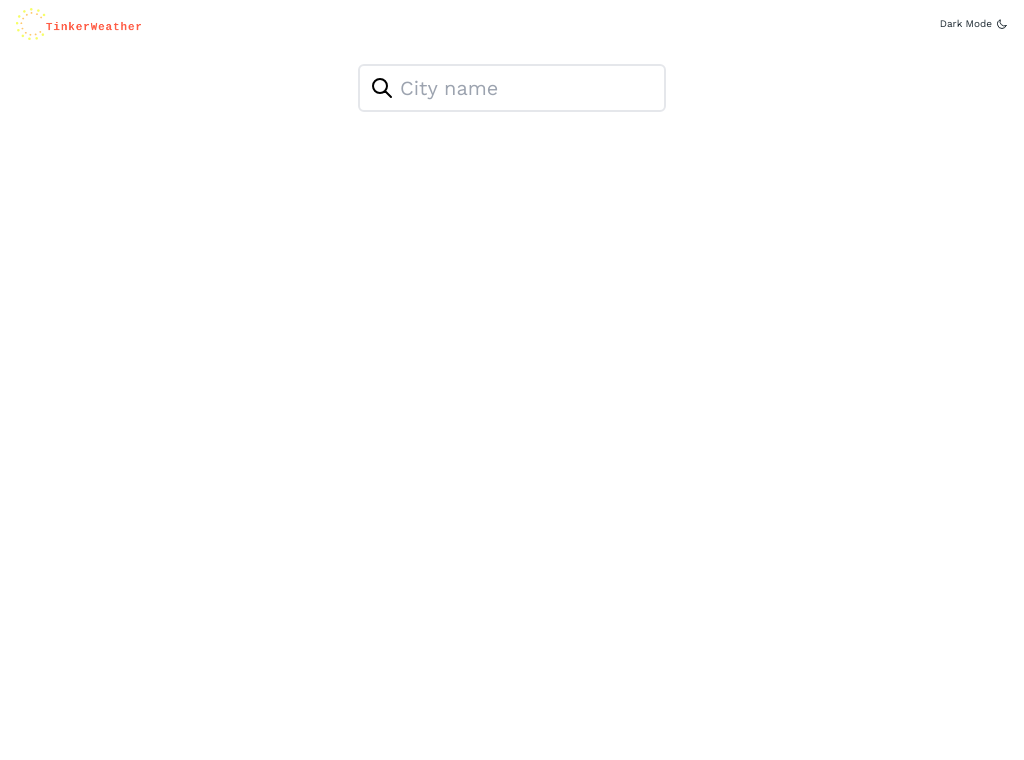
TinkerWeather e2e › requests weather data by city name
Step 1. Type "London" into the element with test id "search-input" → (512, 88), box x1=358 y1=64 x2=666 y2=112
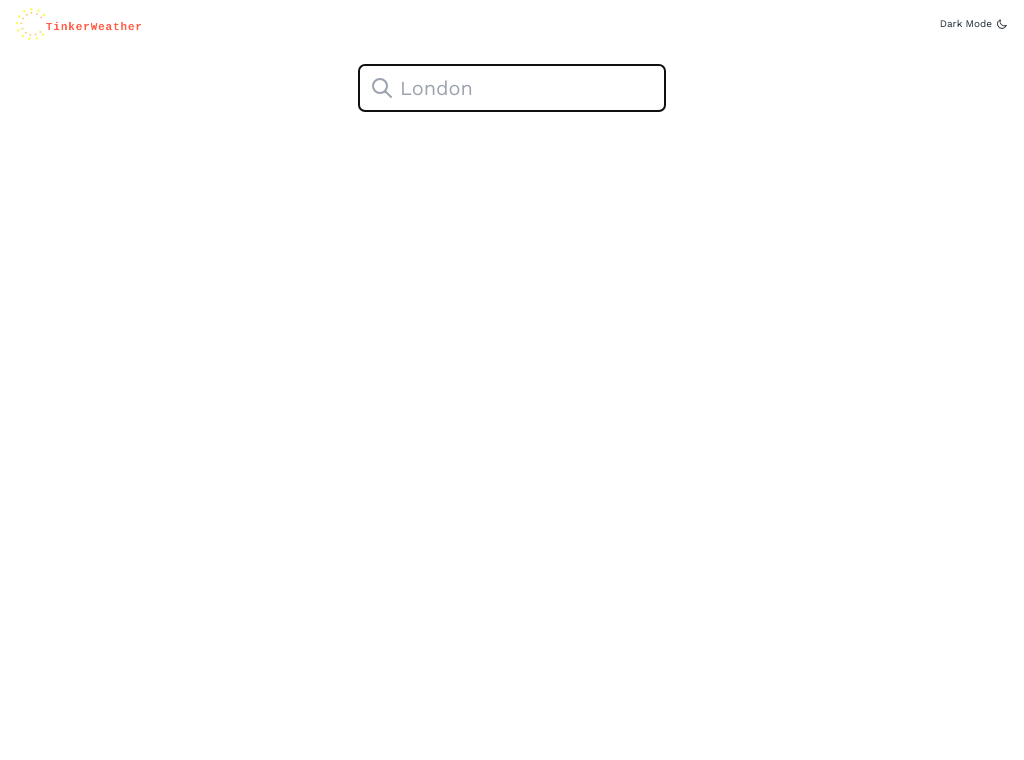
Step 2. Click the button with test id "search-button" → (382, 88), box x1=366 y1=72 x2=398 y2=104
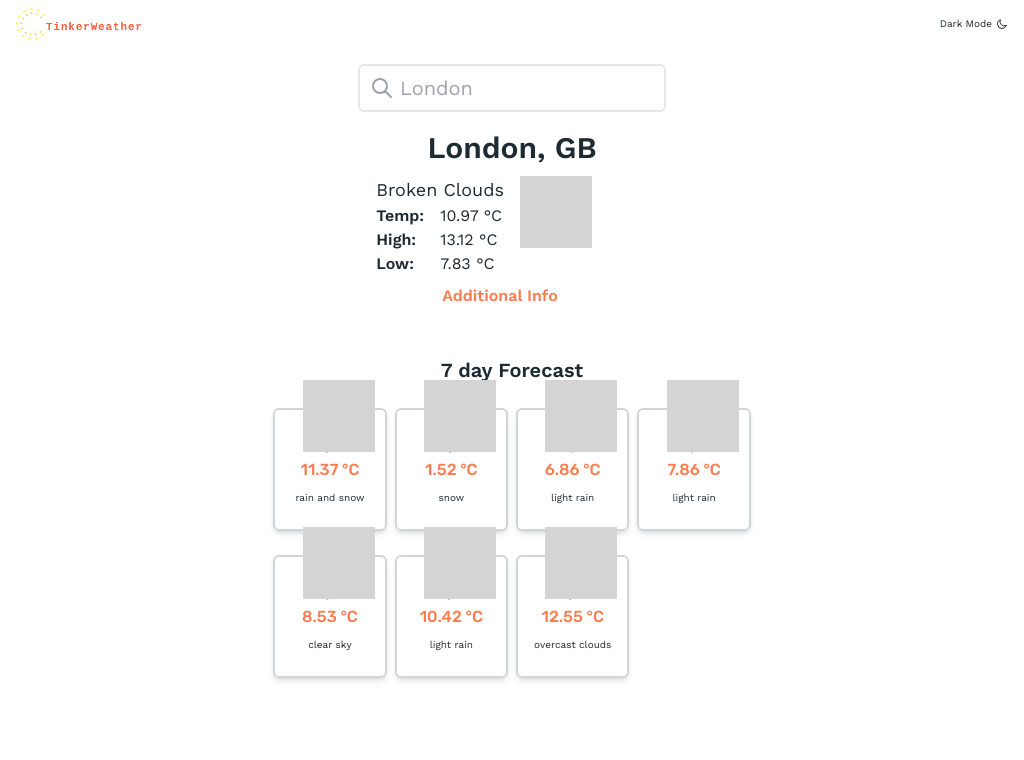
Expected: the heading "London, GB" is shown, x1=427 y1=128 x2=596 y2=168
Expected: the text "broken clouds" is shown, x1=376 y1=176 x2=504 y2=204
Step 3. Click the button with test id "additional-button" → (512, 296), box x1=442 y1=284 x2=582 y2=308
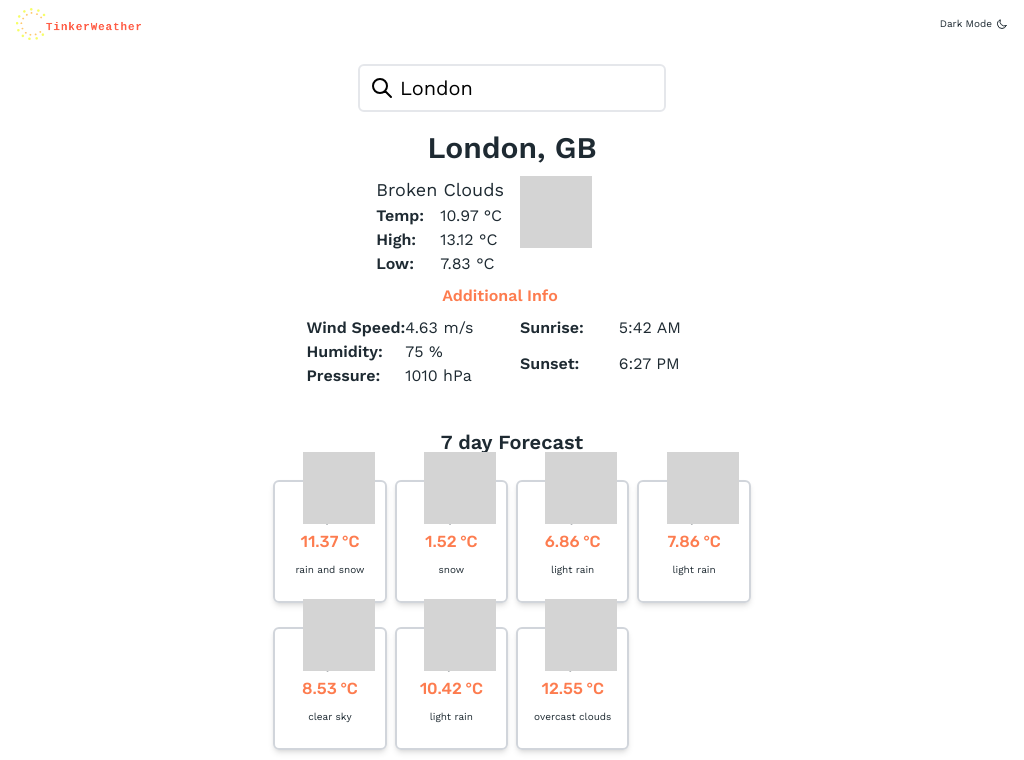
Expected: the text "7 day Forecast" is shown, x1=441 y1=428 x2=583 y2=456
Expected: the text "rain and snow" is shown, x1=295 y1=562 x2=364 y2=577
Expected: the text "Wind Speed:" is shown, x1=306 y1=316 x2=405 y2=340
